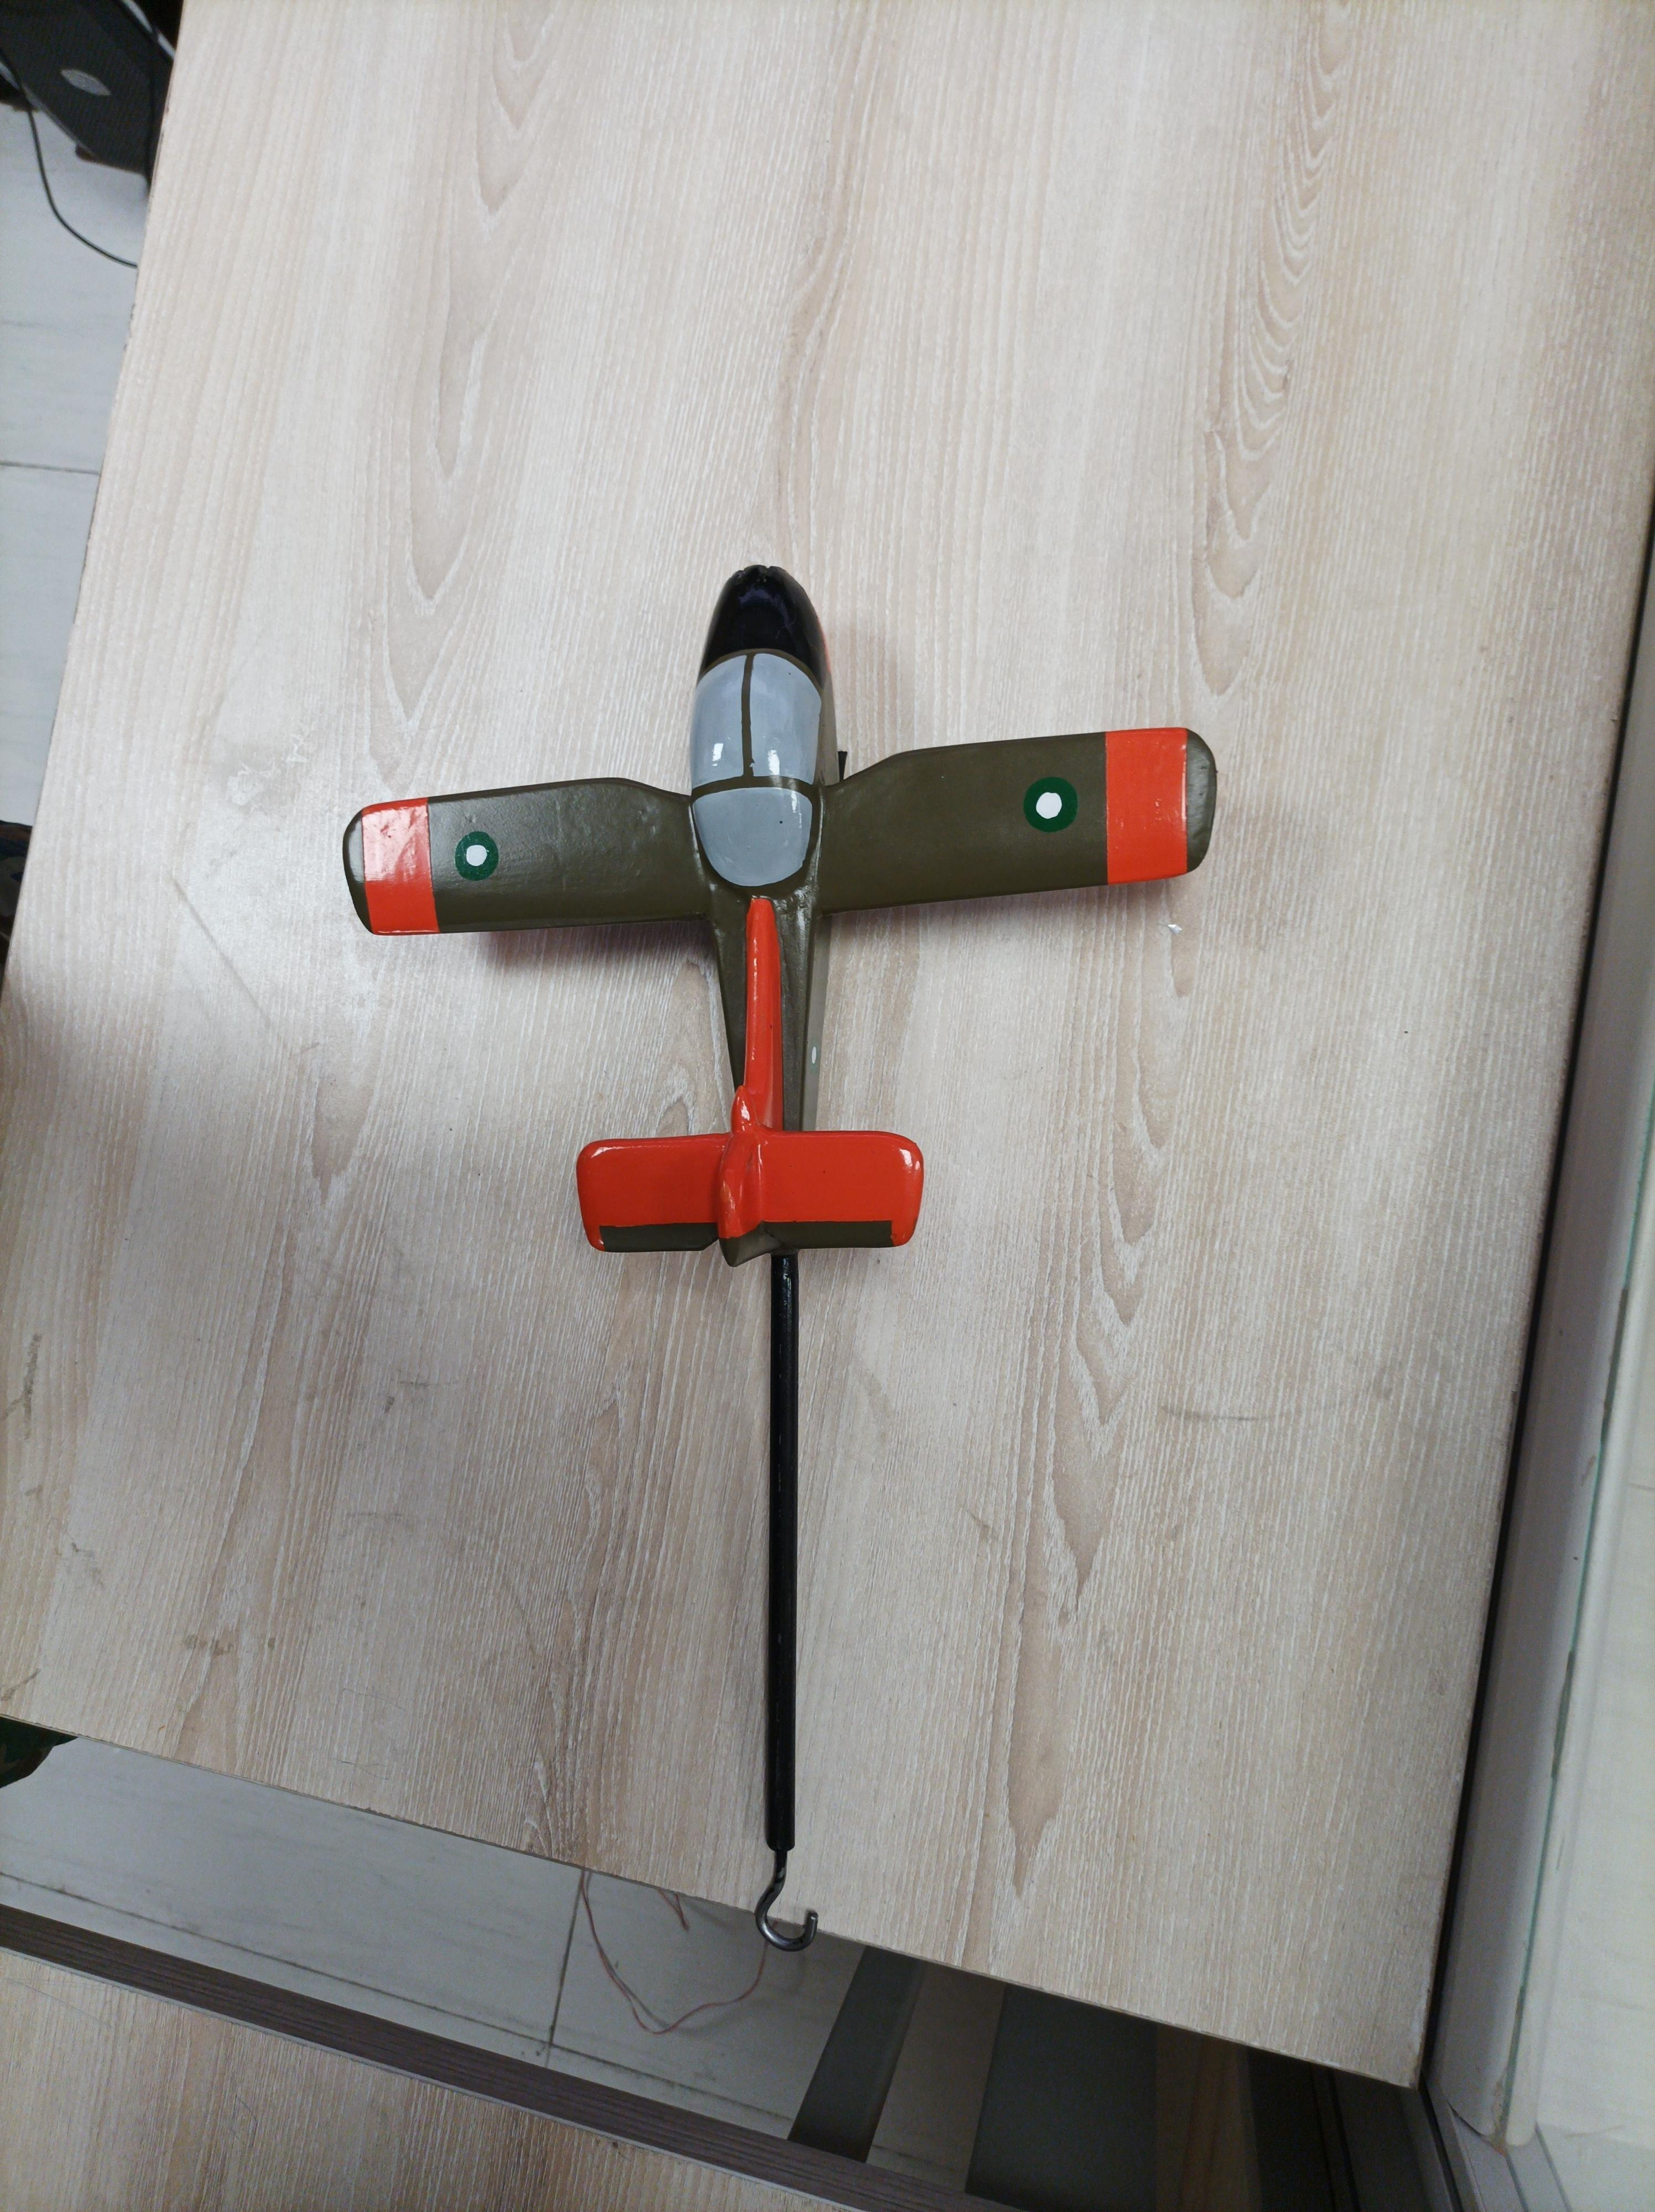Airplane: (323, 547, 1241, 1296)
